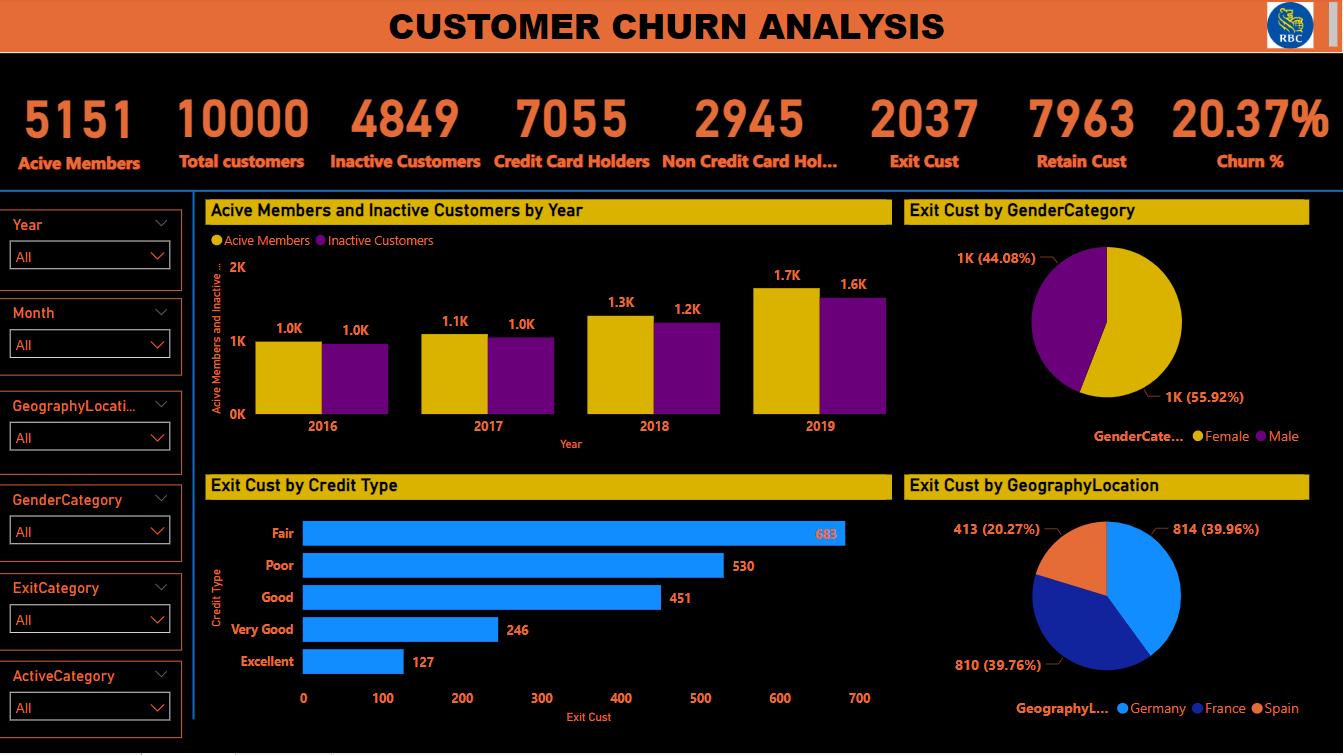

The page's visual inventory and layout, read from the dashboard file:
{"tool":"powerbi","page":{"name":"Page 1","canvas":[1280,720],"ordinal":0},"visuals":[{"type":"card","fields":{"Values":["Calculations.Acive Members"]},"box":[0,65.5,154.7,113.1],"z":0},{"type":"card","fields":{"Values":["Calculations.Total customers"]},"box":[154.7,65.5,154.7,110.7],"z":1},{"type":"card","fields":{"Values":["Calculations.Inactive Customers"]},"box":[310.6,65.5,154.7,110.7],"z":2},{"type":"card","fields":{"Values":["Calculations.Credit Card Holders"]},"box":[465.3,65.5,161.9,110.7],"z":3},{"type":"card","fields":{"Values":["Calculations.Non Credit Card Holders"]},"box":[627.2,65.5,177.3,110.7],"z":4},{"type":"card","fields":{"Values":["Calculations.Exit Cust"]},"box":[804.5,65.5,154.7,110.7],"z":5},{"type":"card","fields":{"Values":["Calculations.Retain Cust"]},"box":[959.2,65.5,145.2,110.7],"z":6},{"type":"textbox","box":[0,0,1280.5,53.6],"z":7},{"type":"image","box":[1199.6,0,60.7,53.6],"z":8},{"type":"shape","box":[0,176.1,1280.5,16.7],"z":9},{"type":"shape","box":[174.9,184.5,22.6,503.4],"z":10},{"type":"slicer","fields":{"Values":["DateTable.Date.Variation.Date Hierarchy.Year"]},"box":[0,202.3,174.9,77.4],"z":11},{"type":"slicer","fields":{"Values":["DateTable.Date.Variation.Date Hierarchy.Month"]},"box":[0,286.8,174.9,73.8],"z":12},{"type":"slicer","fields":{"Values":["Gender.GenderCategory"]},"box":[0,464.1,174.9,73.8],"z":13},{"type":"slicer","fields":{"Values":["Geography.GeographyLocation"]},"box":[0,374.9,174.9,79.7],"z":14},{"type":"slicer","fields":{"Values":["Exit_customer.ExitCategory"]},"box":[0,548.6,174.9,73.8],"z":15},{"type":"slicer","fields":{"Values":["ActiveCustomer.ActiveCategory"]},"box":[0,631.9,174.9,73.8],"z":16},{"type":"clusteredColumnChart","fields":{"Y":["Calculations.Acive Members","Calculations.Inactive Customers"],"Category":["DateTable.Date.Variation.Date Hierarchy.Year","DateTable.Date.Variation.Date Hierarchy.Month"]},"box":[197.6,192.8,653.4,244],"z":17},{"type":"pieChart","fields":{"Category":["Gender.GenderCategory"],"Y":["Calculations.Exit Cust"]},"box":[862.8,192.8,385.6,244],"z":18},{"type":"clusteredBarChart","fields":{"Category":["Bank_Churn.Credit Type"],"Y":["Calculations.Exit Cust"]},"box":[197.6,454.6,653.4,241.6],"z":19},{"type":"pieChart","fields":{"Category":["Geography.GeographyLocation"],"Y":["Calculations.Exit Cust"]},"box":[862.8,454.6,385.6,241.6],"z":20},{"type":"card","fields":{"Values":["Calculations.Churn %"]},"box":[1104.4,65.5,176.1,110.7],"z":21}]}

Visuals, with their boxes in screenshot pixels (x1, y1, x2, y2), scaled from the page's 1280x720 canvas onto the 1343x755 screenshot:
card - Calculations.Acive Members: l=0, t=69, r=162, b=187
card - Calculations.Total customers: l=162, t=69, r=325, b=185
card - Calculations.Inactive Customers: l=326, t=69, r=488, b=185
card - Calculations.Credit Card Holders: l=488, t=69, r=658, b=185
card - Calculations.Non Credit Card Holders: l=658, t=69, r=844, b=185
card - Calculations.Exit Cust: l=844, t=69, r=1006, b=185
card - Calculations.Retain Cust: l=1006, t=69, r=1159, b=185
textbox: l=0, t=0, r=1342, b=56
image: l=1259, t=0, r=1322, b=56
shape: l=0, t=185, r=1342, b=202
shape: l=184, t=193, r=207, b=721
slicer - DateTable.Date.Variation.Date Hierarchy.Year: l=0, t=212, r=184, b=293
slicer - DateTable.Date.Variation.Date Hierarchy.Month: l=0, t=301, r=184, b=378
slicer - Gender.GenderCategory: l=0, t=487, r=184, b=564
slicer - Geography.GeographyLocation: l=0, t=393, r=184, b=477
slicer - Exit_customer.ExitCategory: l=0, t=575, r=184, b=653
slicer - ActiveCustomer.ActiveCategory: l=0, t=663, r=184, b=740
clusteredColumnChart - Calculations.Acive Members x Calculations.Inactive Customers: l=207, t=202, r=893, b=458
pieChart - Gender.GenderCategory x Calculations.Exit Cust: l=905, t=202, r=1310, b=458
clusteredBarChart - Bank_Churn.Credit Type x Calculations.Exit Cust: l=207, t=477, r=893, b=730
pieChart - Geography.GeographyLocation x Calculations.Exit Cust: l=905, t=477, r=1310, b=730
card - Calculations.Churn %: l=1159, t=69, r=1342, b=185
